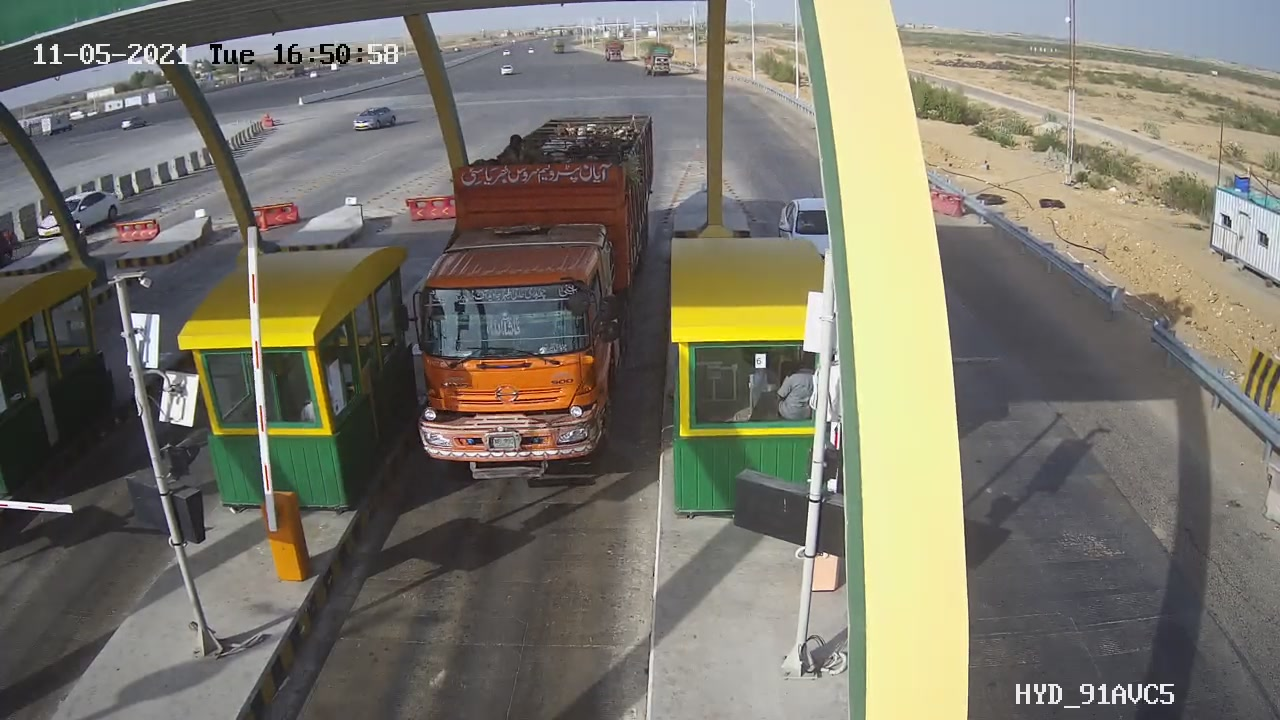F6: (375, 98, 671, 501)
